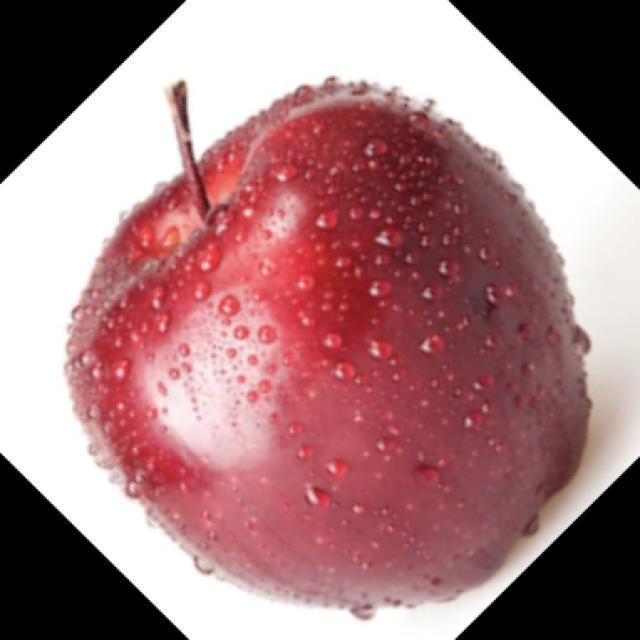Fresh Apple: (61, 71, 591, 615)
